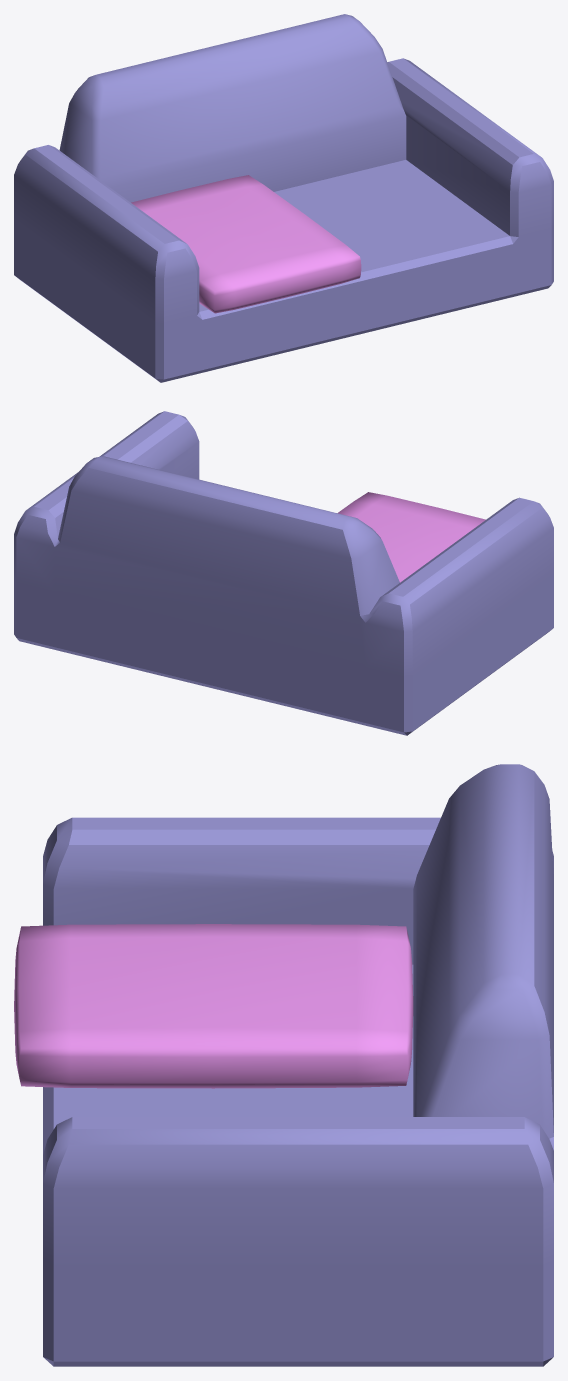
The model's file is sofa_pillow_new.FBX.
3 views of the same model, one above another, from view 1: azimuth 30°, elevation 25°; view 2: azimuth 150°, elevation 25°; view 3: azimuth 270°, elevation 25° (orthographic). The views are drawn at different scales.
Parts seen in each view (by area): view 1: Box001, buttPillow; view 2: Box001, buttPillow; view 3: Box001, buttPillow.
Boxes of the visible parts, <box> form: Box001: <box>14,14,553,382</box>; buttPillow: <box>131,175,361,313</box>; Box001: <box>14,411,553,735</box>; buttPillow: <box>337,492,485,582</box>; Box001: <box>43,764,553,1366</box>; buttPillow: <box>14,924,413,1088</box>.
Bounding box in the file's own units: 73.62 × 34.05 × 49.92.
